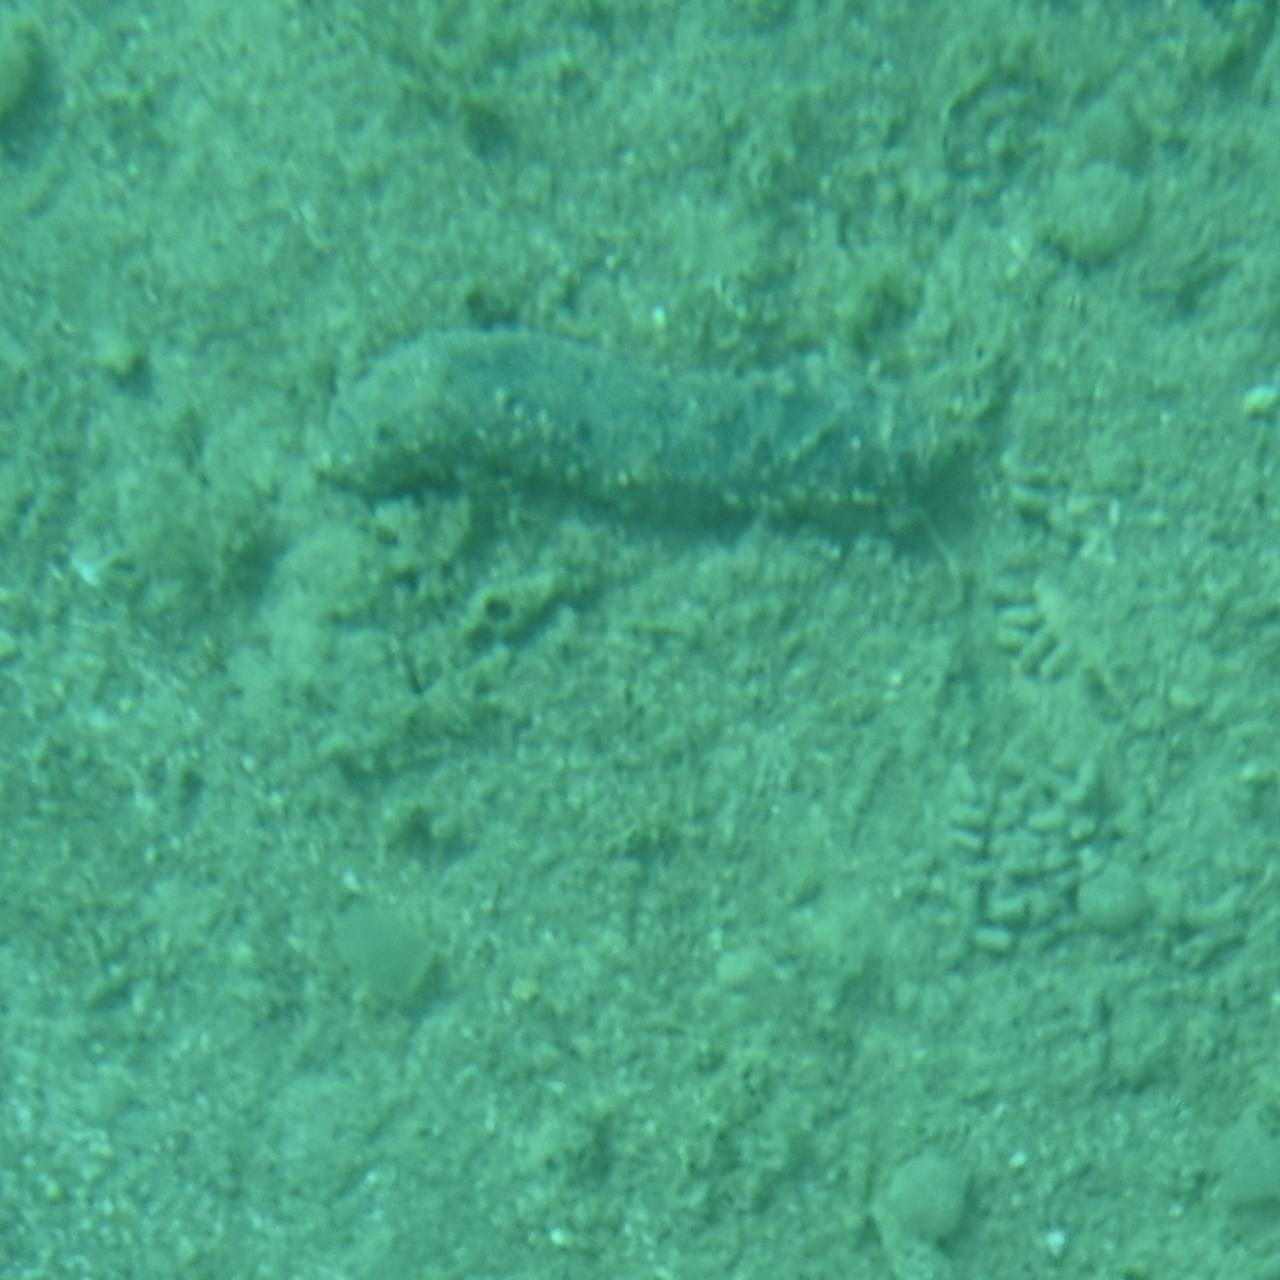Holothuria tubulosa: (305, 321, 975, 545)
